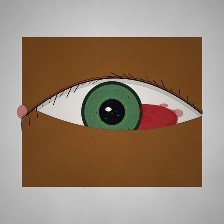hemorrhage_spot: (99, 82, 190, 155)
